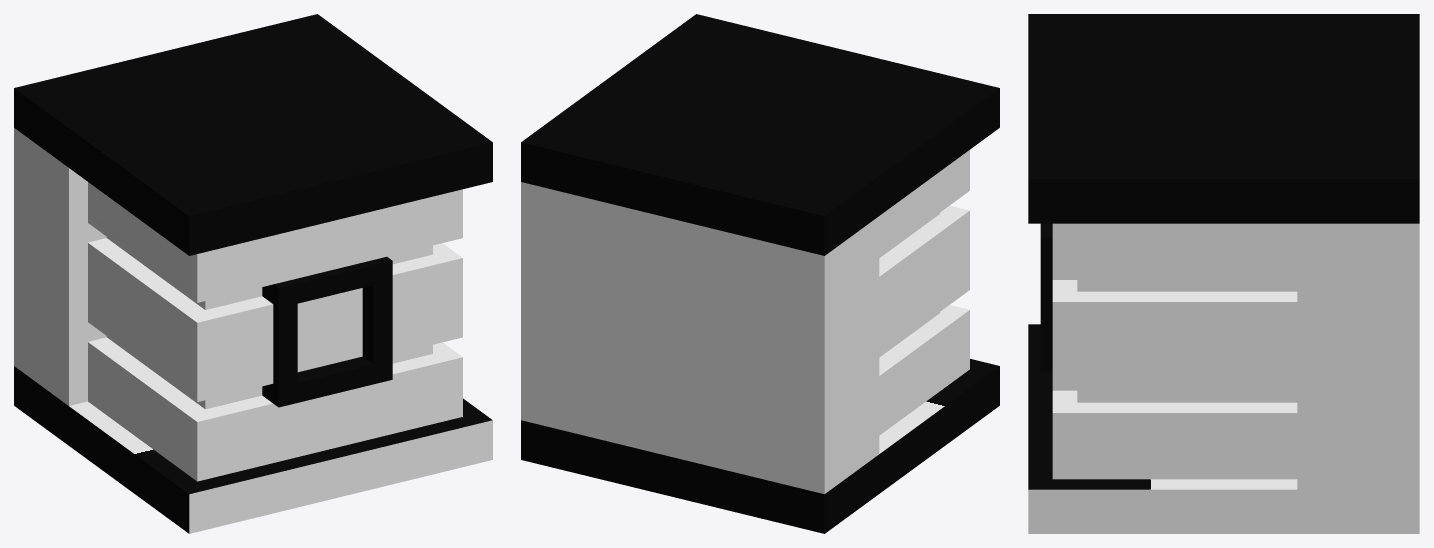
Rendered from laser.obj.
3 views of the same model, side by side, from view 1: azimuth 30°, elevation 25°; view 2: azimuth 150°, elevation 25°; view 3: azimuth 270°, elevation 25° (orthographic). The views are drawn at different scales.
Visible parts, largest first — view 1: model; view 2: model; view 3: model.
Part boxes in pixels (x1,y1,x2,y2): model: [14, 14, 492, 533]; model: [521, 14, 999, 533]; model: [1028, 14, 1419, 533].
Size of the model in its own units: 1 by 1 by 1.
